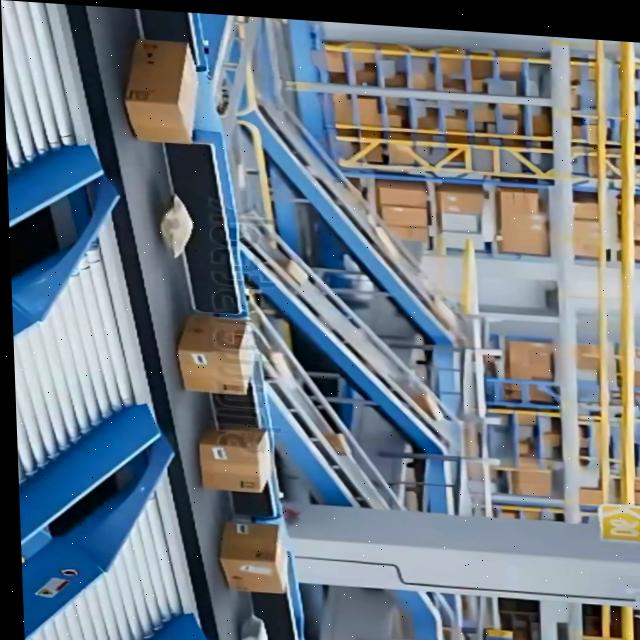product 1: (175, 314, 260, 397), (216, 520, 290, 595), (196, 425, 273, 495)
product 2: (153, 192, 199, 259)
